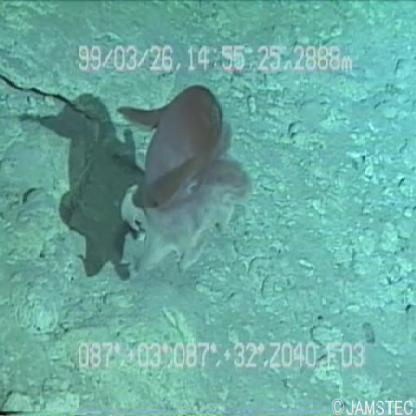Bio: (115, 80, 258, 289)
